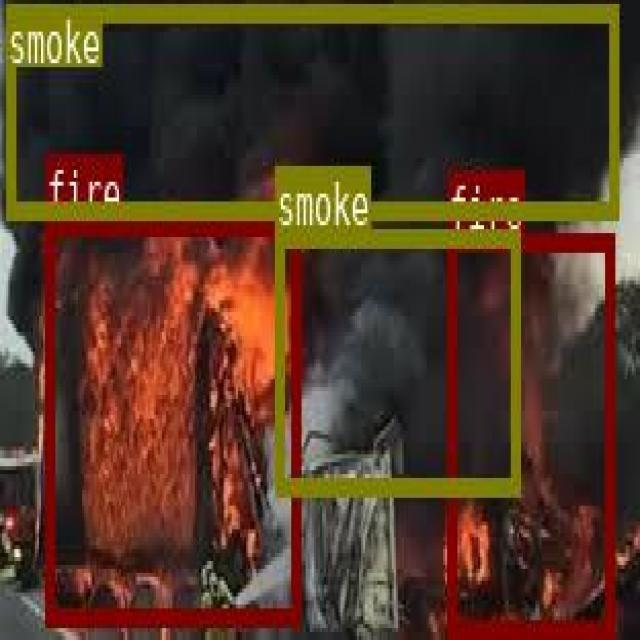fire: (43, 214, 298, 623), (447, 232, 611, 632)
smoke: (5, 4, 616, 214), (274, 228, 519, 492)
